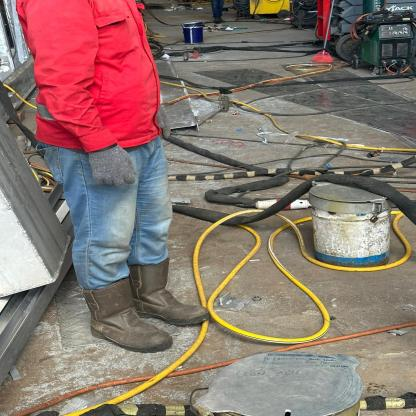bota: (76, 276, 177, 356), (128, 254, 218, 332)
